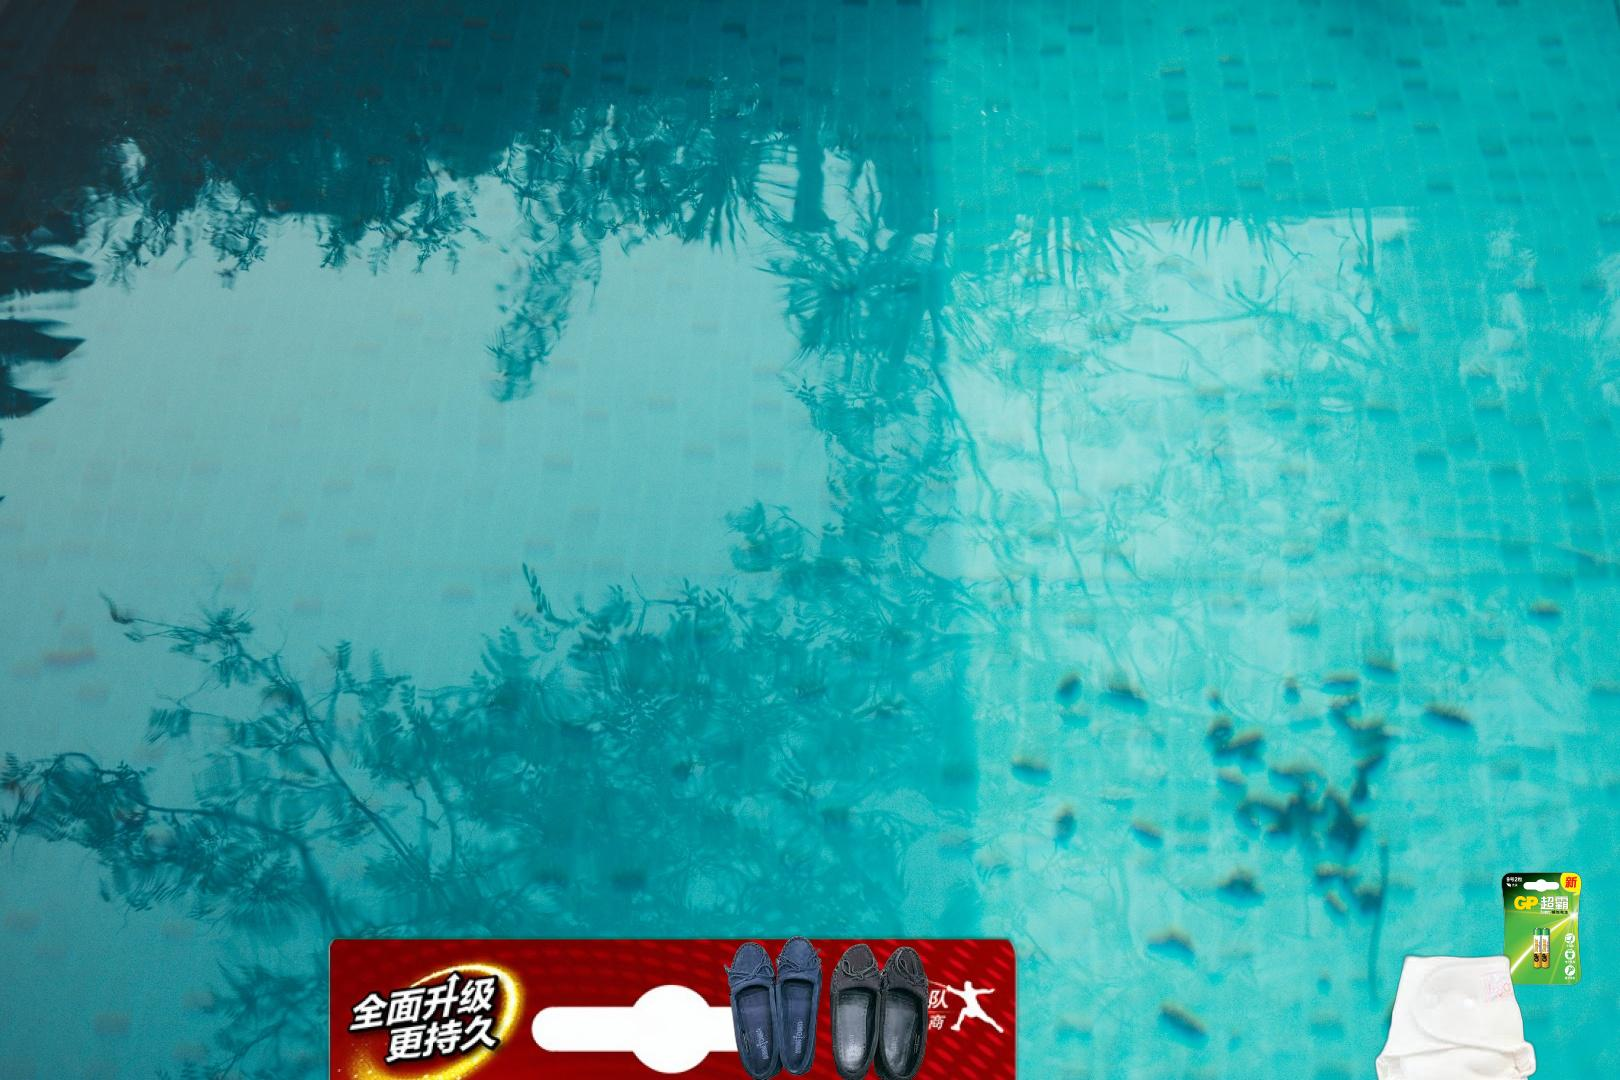battery: (319, 923, 1027, 1080), (1498, 869, 1584, 988)
shoes: (721, 933, 932, 1080)
trash: (1372, 951, 1539, 1080)
